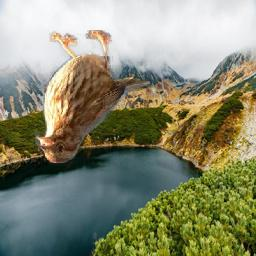Sparrow: (35, 31, 153, 166)
